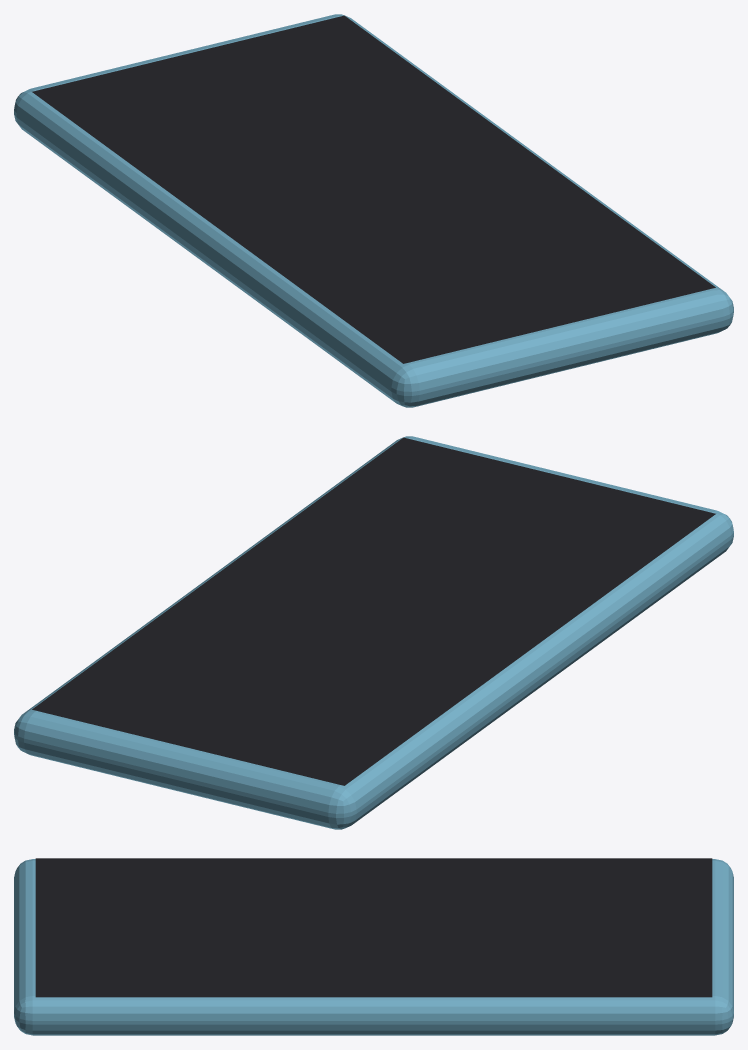
The model's file is Phone_7.glb.
3 views of the same model, one above another, from view 1: azimuth 30°, elevation 25°; view 2: azimuth 150°, elevation 25°; view 3: azimuth 270°, elevation 25° (orthographic). The views are drawn at different scales.
Parts seen in each view (by area): view 1: Phone_Screen, Phone_Body; view 2: Phone_Screen, Phone_Body; view 3: Phone_Screen, Phone_Body.
Boxes of the visible parts, x1,y1,x2,y2 form: Phone_Screen: (32,15,715,363); Phone_Body: (14,14,733,407); Phone_Screen: (32,437,715,785); Phone_Body: (14,436,733,829); Phone_Screen: (35,858,712,997); Phone_Body: (14,859,733,1035).
Size of the model in its own units: 0.0745 by 0.0088 by 0.1501.
